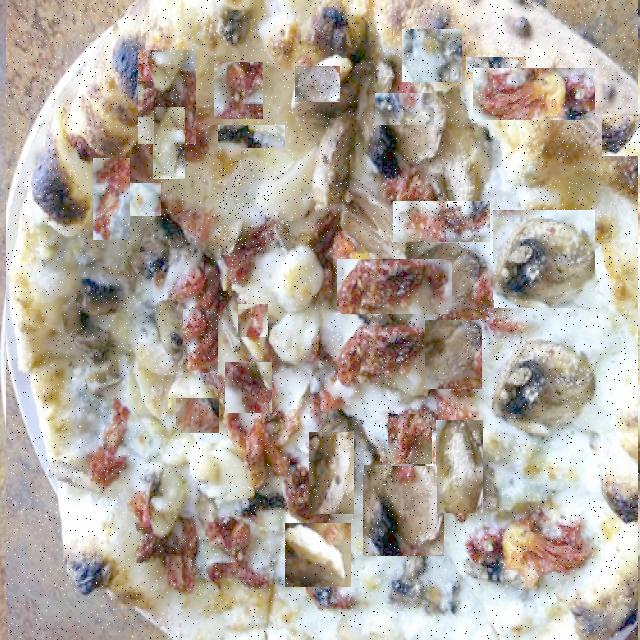Mushrooms: (494, 210, 595, 308), (364, 466, 444, 556), (437, 420, 483, 513), (286, 523, 351, 587), (426, 320, 482, 389), (310, 432, 354, 514), (404, 29, 464, 82), (349, 404, 391, 476), (318, 159, 350, 231), (154, 107, 185, 179), (376, 93, 434, 125), (296, 66, 341, 102), (603, 114, 640, 156), (219, 125, 285, 148), (122, 183, 161, 216), (467, 57, 526, 72)
Pizza: (6, 0, 639, 640)
Tomato: (216, 159, 288, 253), (474, 68, 595, 120), (338, 259, 452, 314), (139, 50, 196, 144), (394, 201, 490, 242), (466, 300, 522, 359), (94, 158, 130, 240), (215, 62, 263, 119), (226, 362, 272, 413), (388, 414, 432, 464), (184, 309, 218, 373), (177, 398, 219, 433), (239, 304, 268, 337), (249, 304, 259, 332)
